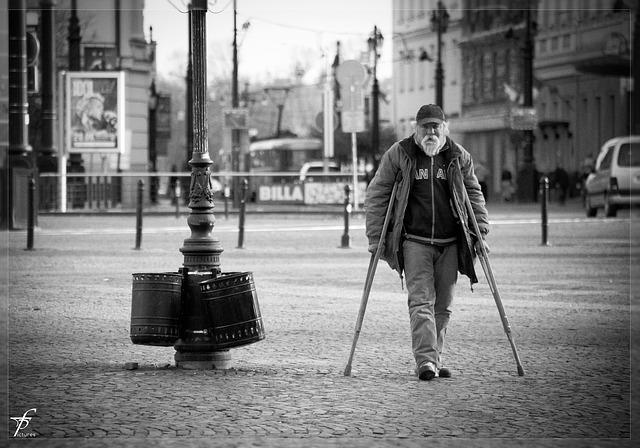crutches: (342, 104, 527, 381)
